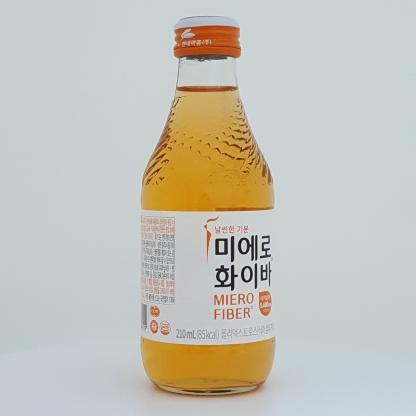--------210ML: (140, 16, 275, 397)
